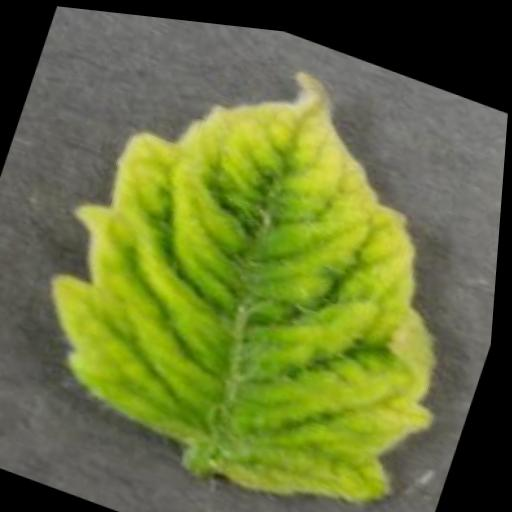Yellow Leaf Curl Virus: (9, 3, 512, 512)
